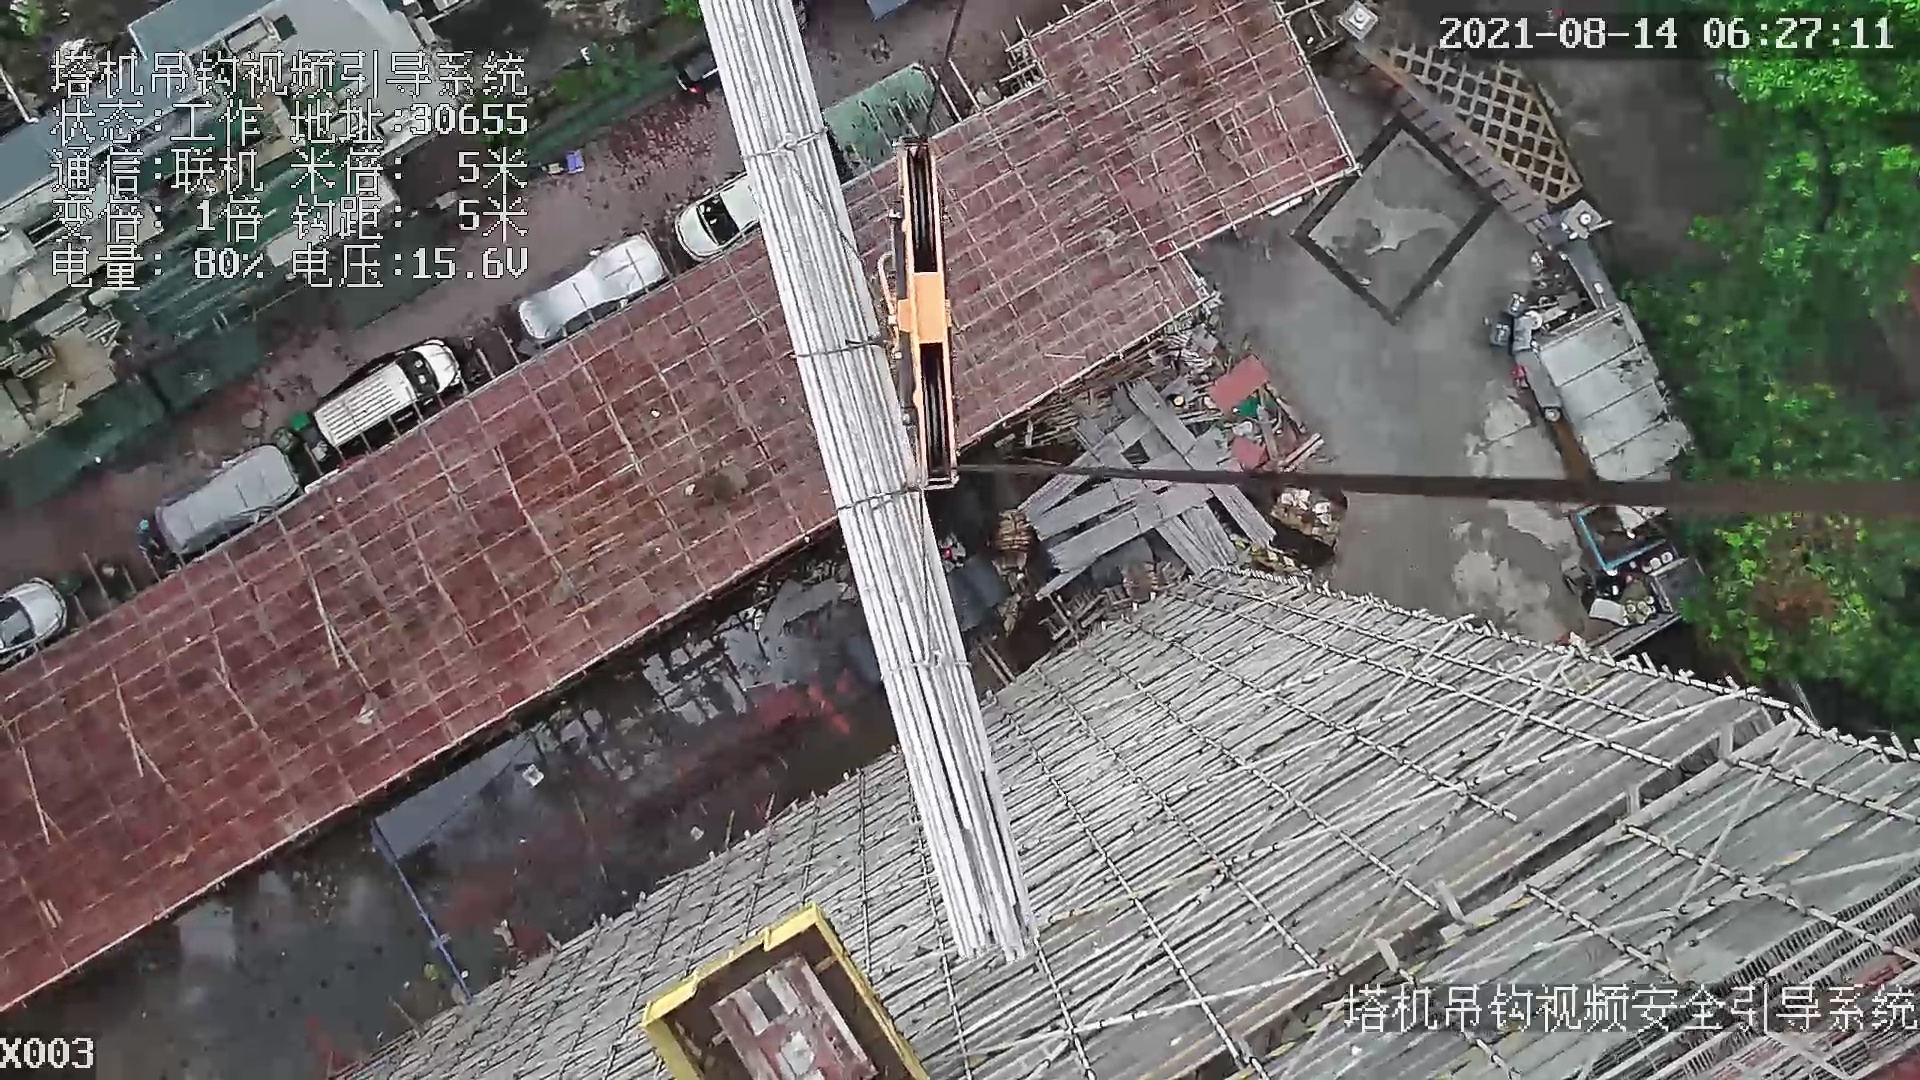hook: (891, 131, 963, 489)
